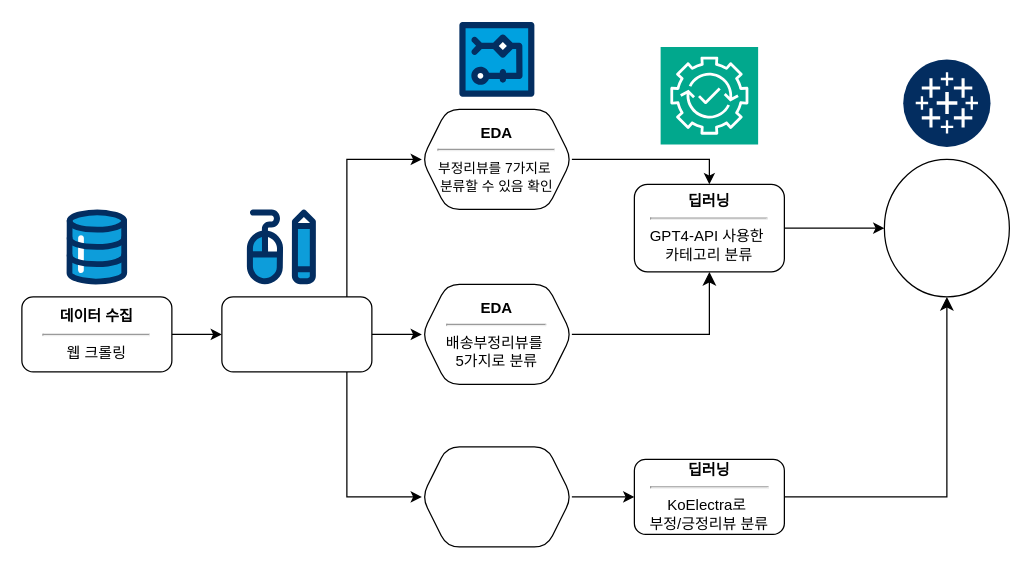
This 1031x569 diagram has some shape labels left out. Here are the shapes that lost their labels. From the top down, the centre of each, then its label:
the point at 296,334: 데이터 전처리 의미가 불분명한 리뷰 제거
the point at 496,496: EDA 평점과 상반된 리뷰 확인
